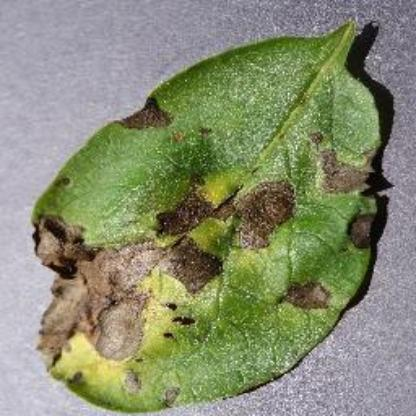Early-Blight: (33, 12, 391, 412)
